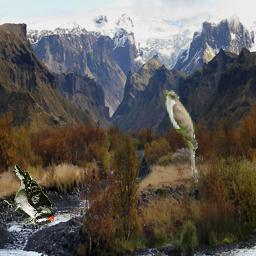Cuckoo: (160, 88, 198, 183)
Woodpecker: (4, 164, 54, 226)
